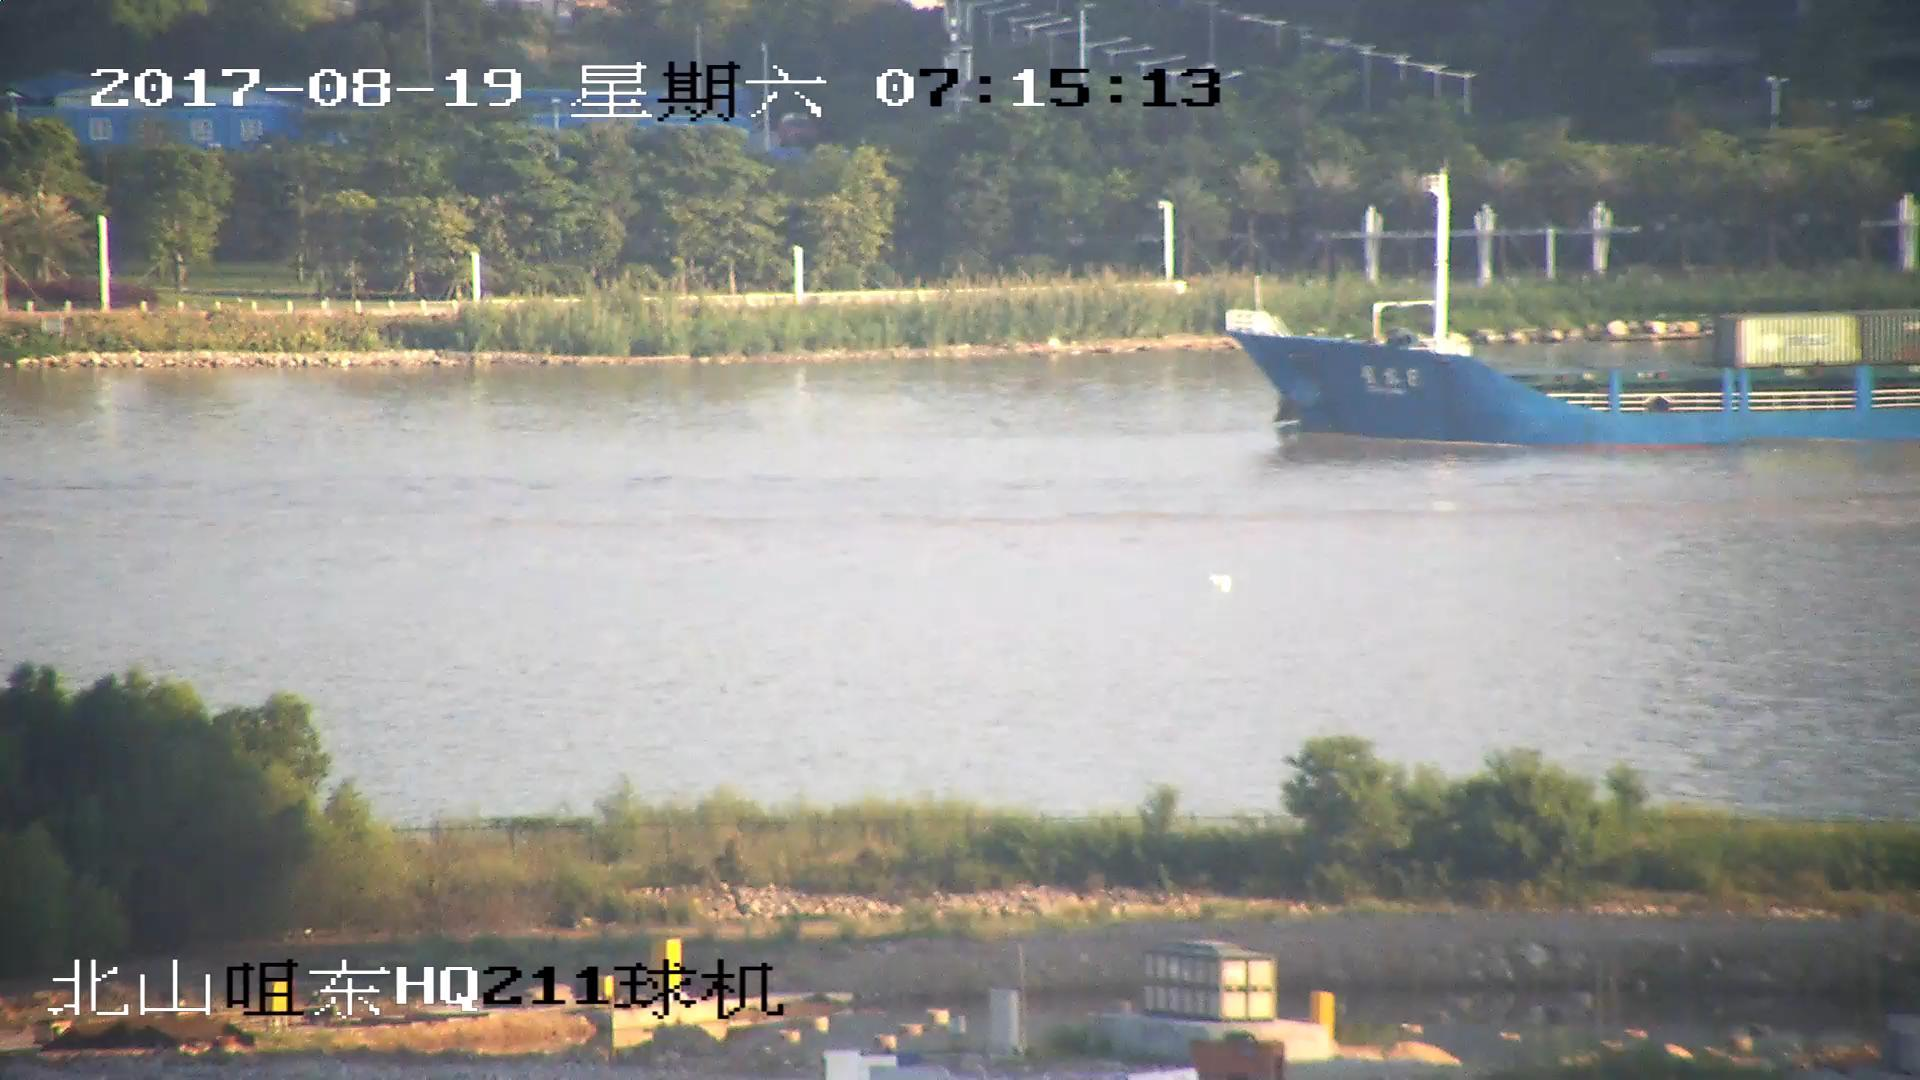Ship: (1226, 179, 1920, 444)
